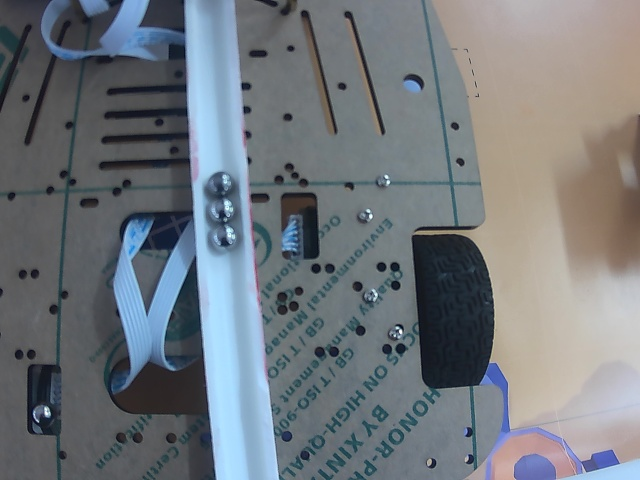steelball: (206, 171, 233, 196), (208, 198, 236, 222), (210, 225, 236, 249)
